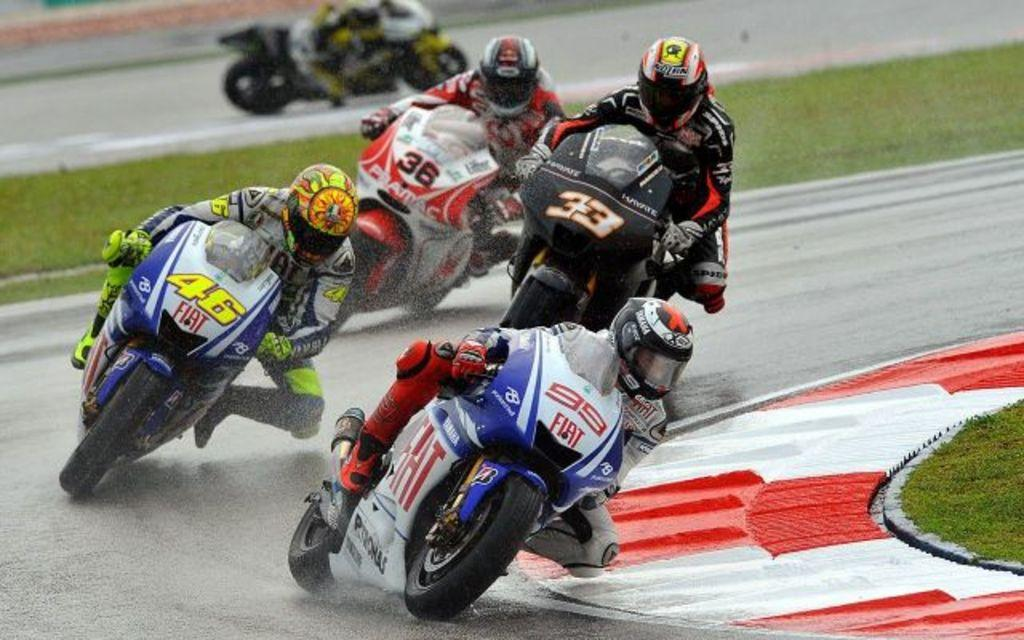helmet: (606, 296, 694, 401), (280, 162, 359, 270), (637, 36, 708, 134), (479, 35, 539, 120)
